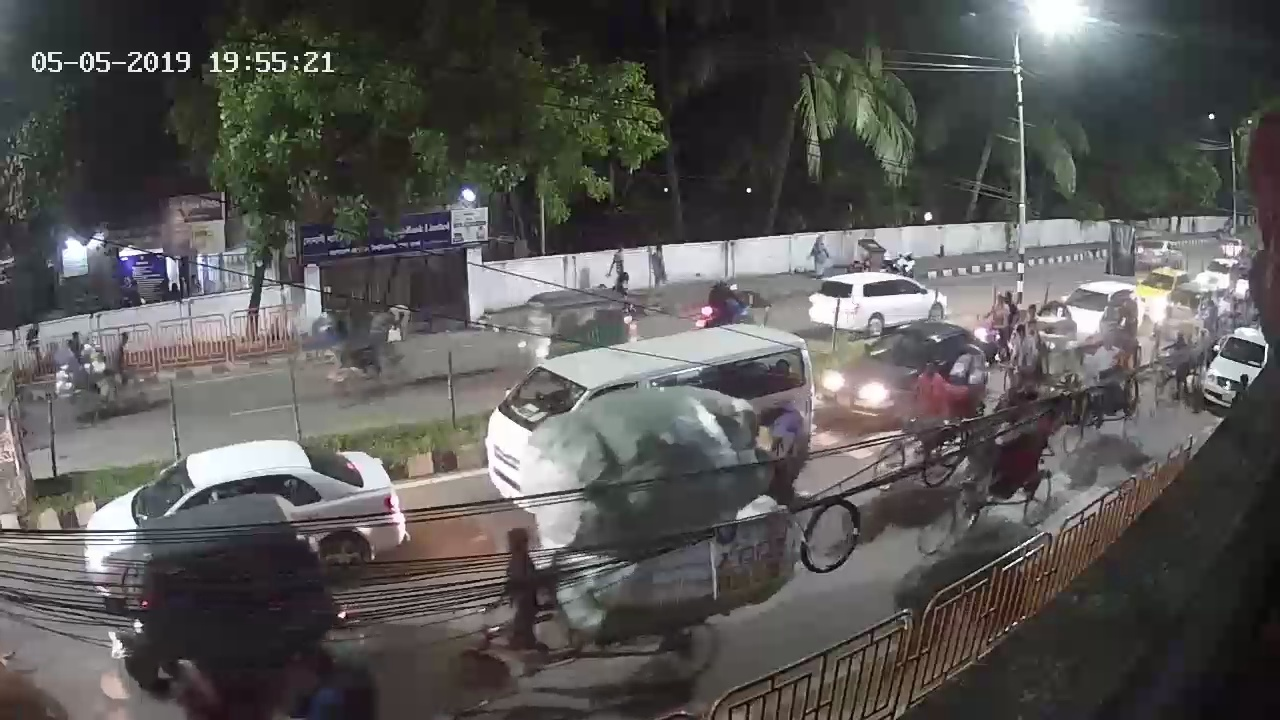fast_in: (471, 318, 824, 529), (73, 435, 423, 612), (814, 320, 986, 438), (1195, 324, 1270, 414), (1056, 276, 1149, 336), (1142, 261, 1191, 309), (1189, 254, 1242, 295)
fast_out: (799, 268, 952, 353), (803, 262, 945, 347), (515, 282, 638, 358), (688, 300, 770, 339), (1129, 229, 1192, 276)
slow_in: (438, 574, 726, 698), (915, 380, 1068, 530), (873, 333, 992, 494), (1058, 280, 1149, 421), (311, 294, 417, 397), (1018, 292, 1074, 376), (1158, 323, 1214, 398)
slow_out: (45, 330, 147, 426)
